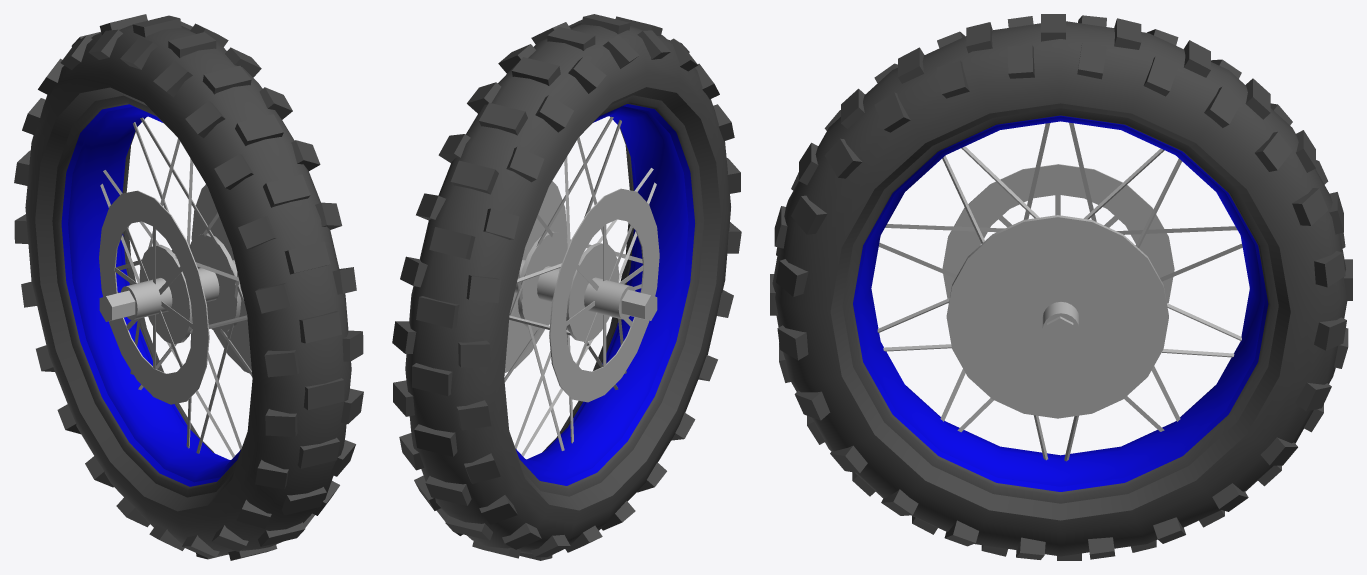
File: bike_motard_wheel_rear.fbx
The picture shows the model from 3 angles, left to right: view 1: azimuth 30°, elevation 25°; view 2: azimuth 150°, elevation 25°; view 3: azimuth 270°, elevation 25°; orthographic projection. The views are drawn at different scales.
Visible parts, largest first — view 1: polySurface219; view 2: polySurface219; view 3: polySurface219.
Part boxes in pixels (box(x1,y1,x2,y2)): polySurface219: box(14, 14, 363, 560); polySurface219: box(392, 14, 741, 560); polySurface219: box(770, 14, 1352, 560).
Bounding box in the file's own units: 20.98 × 59.8 × 59.8.
